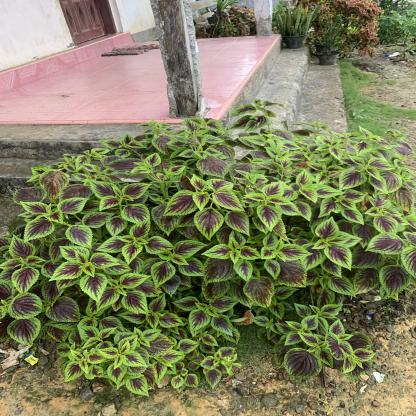Bunga Coleus: (7, 142, 407, 348)
